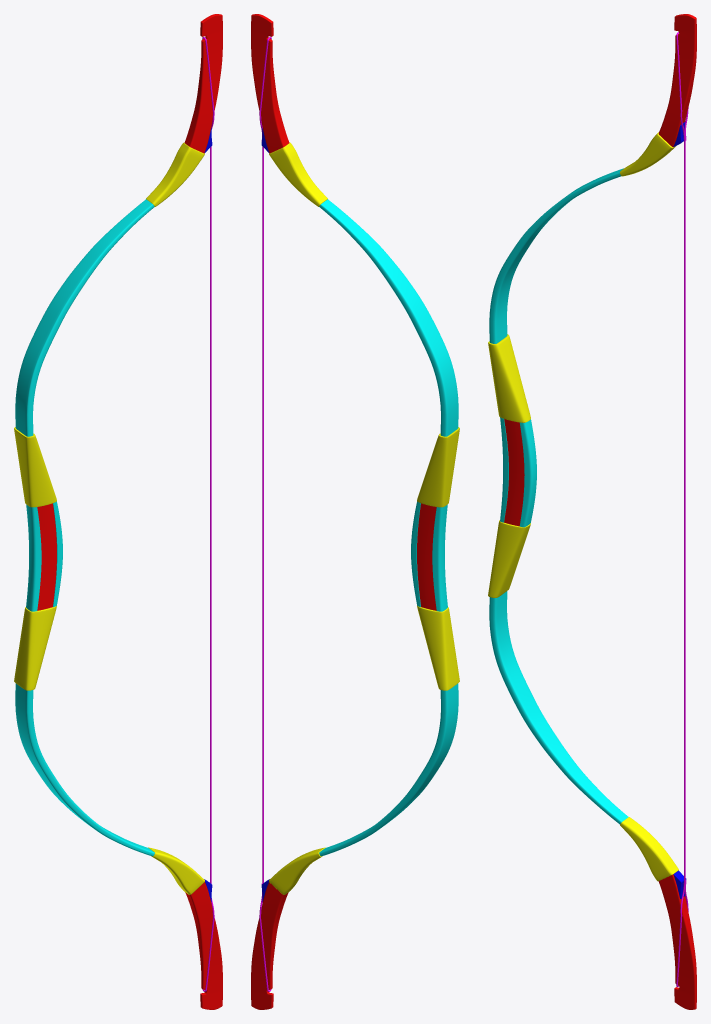
File: MongolBow.fbx
3 views of the same model, side by side, from view 1: azimuth 30°, elevation 25°; view 2: azimuth 150°, elevation 25°; view 3: azimuth 330°, elevation 25° (orthographic).
Visible parts, largest first — view 1: limbs, stringGroove, bowHandleConnector, bowGrip, bowLimbConnector, string2; view 2: limbs, stringGroove, bowHandleConnector, bowGrip, bowLimbConnector, string2; view 3: limbs, stringGroove, bowHandleConnector, bowGrip, bowLimbConnector, string2.
Boxes of the visible parts, <box> form: limbs: <box>15,199,154,856</box>; stringGroove: <box>184,14,222,1009</box>; bowHandleConnector: <box>14,427,56,690</box>; bowGrip: <box>26,501,62,611</box>; bowLimbConnector: <box>146,142,204,894</box>; string2: <box>202,37,214,991</box>; limbs: <box>319,199,458,856</box>; stringGroove: <box>251,14,289,1009</box>; bowHandleConnector: <box>417,427,459,690</box>; bowGrip: <box>411,501,447,611</box>; bowLimbConnector: <box>269,142,327,894</box>; string2: <box>259,37,271,991</box>; limbs: <box>489,168,628,824</box>; stringGroove: <box>658,14,696,1009</box>; bowHandleConnector: <box>488,334,530,597</box>; bowGrip: <box>500,417,536,527</box>; bowLimbConnector: <box>620,132,678,881</box>; string2: <box>676,32,688,986</box>.
Bounding box in the file's own units: 28.46 × 133 × 3.54.
